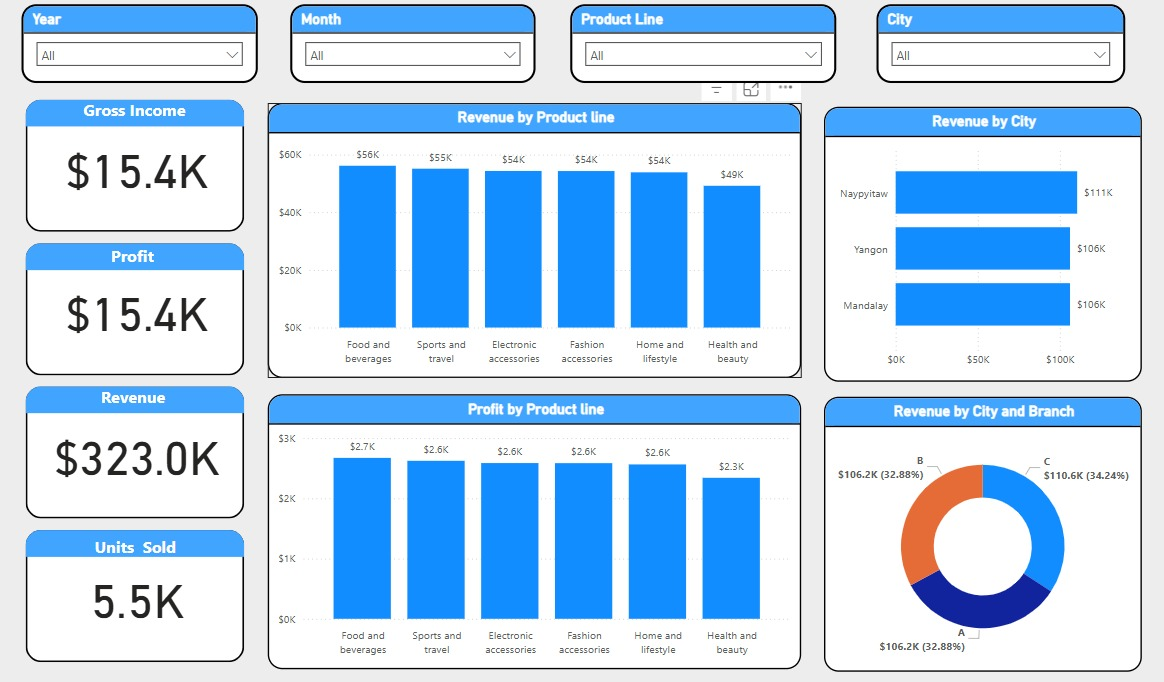

What the dashboard file says about the page in this screenshot:
{"tool":"powerbi","page":{"name":"Page 1","canvas":[1350,800],"ordinal":0},"visuals":[{"type":"cardVisual","fields":{"Data":["supermarket_sales - Sheet1.Gross_Income","supermarket_sales - Sheet1.Profit","supermarket_sales - Sheet1.Revenue","supermarket_sales - Sheet1.Units Sold"]},"box":[26.1,118.7,263.4,662.8],"z":0},{"type":"clusteredColumnChart","fields":{"Category":["supermarket_sales - Sheet1.Product line"],"Y":["supermarket_sales - Sheet1.Revenue"]},"box":[311.2,127.4,618,318.4],"z":1000},{"type":"barChart","fields":{"Category":["supermarket_sales - Sheet1.City"],"Y":["supermarket_sales - Sheet1.Revenue"]},"box":[955.2,131.7,367.6,318.4],"z":2000},{"type":"donutChart","fields":{"Category":["supermarket_sales - Sheet1.City"],"Y":["supermarket_sales - Sheet1.Revenue"],"Series":["supermarket_sales - Sheet1.Branch"]},"box":[955.2,467.5,367.6,318.4],"z":3000},{"type":"columnChart","fields":{"Category":["supermarket_sales - Sheet1.Product line"],"Y":["supermarket_sales - Sheet1.Profit"]},"box":[311.2,464.6,618,318.4],"z":4000},{"type":"textbox","box":[92.6,117.2,141.8,39.1],"z":5000},{"type":"textbox","box":[124.5,286.6,72.4,39.1],"z":6000},{"type":"textbox","box":[112.9,450.1,99.9,34.7],"z":7000},{"type":"textbox","box":[86.8,623.8,141.8,39.1],"z":7001},{"type":"slicer","title":"Year","fields":{"Values":["supermarket_sales - Sheet1.Date.Variation.Date Hierarchy.Year"]},"box":[26.1,13,273.5,91.2],"z":7002},{"type":"slicer","title":"Month","fields":{"Values":["supermarket_sales - Sheet1.Date.Variation.Date Hierarchy.Month"]},"box":[337.2,13,283.7,91.2],"z":7003},{"type":"slicer","title":"Product Line","fields":{"Values":["supermarket_sales - Sheet1.Product line"]},"box":[661.4,13,308.3,91.2],"z":7004},{"type":"slicer","title":"City","fields":{"Values":["supermarket_sales - Sheet1.City"]},"box":[1016,13,288,91.2],"z":7006}]}

Visuals, with their boxes in screenshot pixels (x1, y1, x2, y2), scaled from the page's 1350x800 canvas onto the 1164x682 screenshot:
cardVisual - supermarket_sales - Sheet1.Gross_Income x supermarket_sales - Sheet1.Profit: BBox(23, 101, 250, 666)
clusteredColumnChart - supermarket_sales - Sheet1.Product line x supermarket_sales - Sheet1.Revenue: BBox(268, 109, 801, 380)
barChart - supermarket_sales - Sheet1.City x supermarket_sales - Sheet1.Revenue: BBox(824, 112, 1141, 384)
donutChart - supermarket_sales - Sheet1.City x supermarket_sales - Sheet1.Revenue: BBox(824, 399, 1141, 670)
columnChart - supermarket_sales - Sheet1.Product line x supermarket_sales - Sheet1.Profit: BBox(268, 396, 801, 668)
textbox: BBox(80, 100, 202, 133)
textbox: BBox(107, 244, 170, 278)
textbox: BBox(97, 384, 183, 413)
textbox: BBox(75, 532, 197, 565)
"Year" slicer: BBox(23, 11, 258, 89)
"Month" slicer: BBox(291, 11, 535, 89)
"Product Line" slicer: BBox(570, 11, 836, 89)
"City" slicer: BBox(876, 11, 1124, 89)
